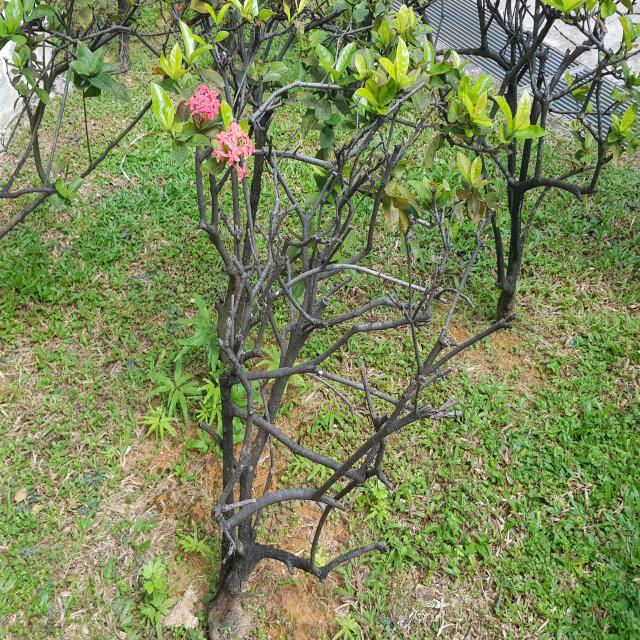Chinese-Ixora: (213, 121, 256, 181), (183, 82, 224, 130)
